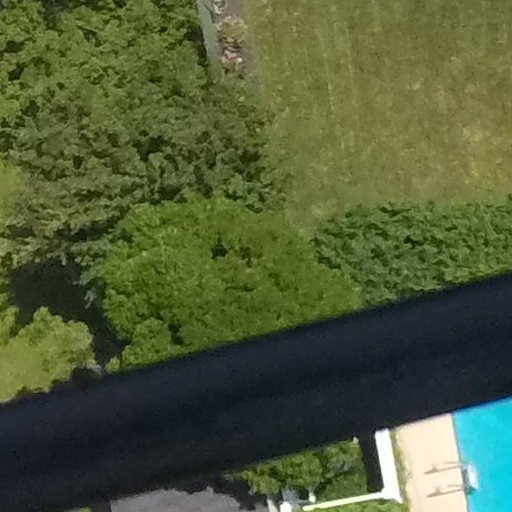pool: (444, 416, 512, 512)
